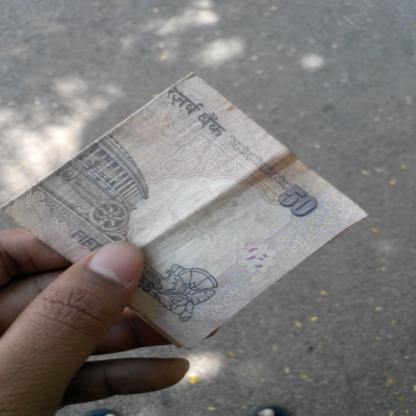Old50Back: (0, 71, 370, 352)
